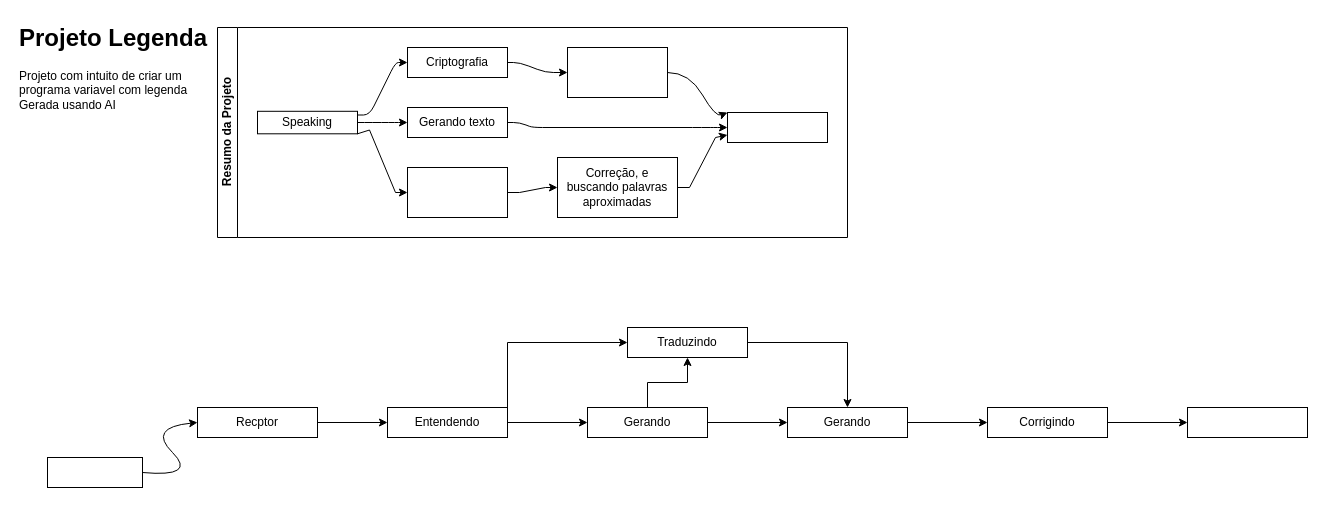
The diagram is 1325 pixels wide and 505 high, and some of its shapes have lost their labels. The centre of each missing label's shape, as x and y in pixels:
Emissor: the point at 1247,422
Interligencia artificial: the point at 457,192
Legenda amostra: the point at 777,127
Privacidade com a chave de Descrpytocrafia: the point at 617,72
Speking no mic: the point at 94,472
